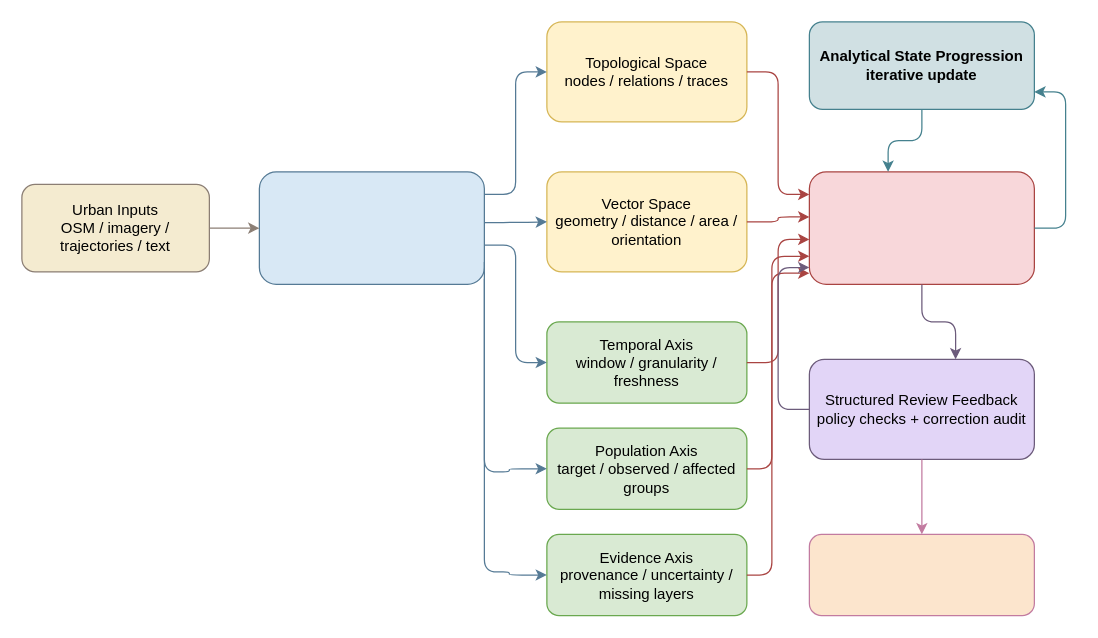
Some shapes in this 1098 by 638 pixel diagram are drawn without their labels. The centre of each missing label's shape, as x and y in pixels:
"Executable Operators measure / compare / simulate / rank / retrieve" goes at point (921, 227).
"Perception + normalization features + typed evidence manifest" goes at point (371, 227).
"Urban proposals / answers / artifacts" goes at point (921, 574).
